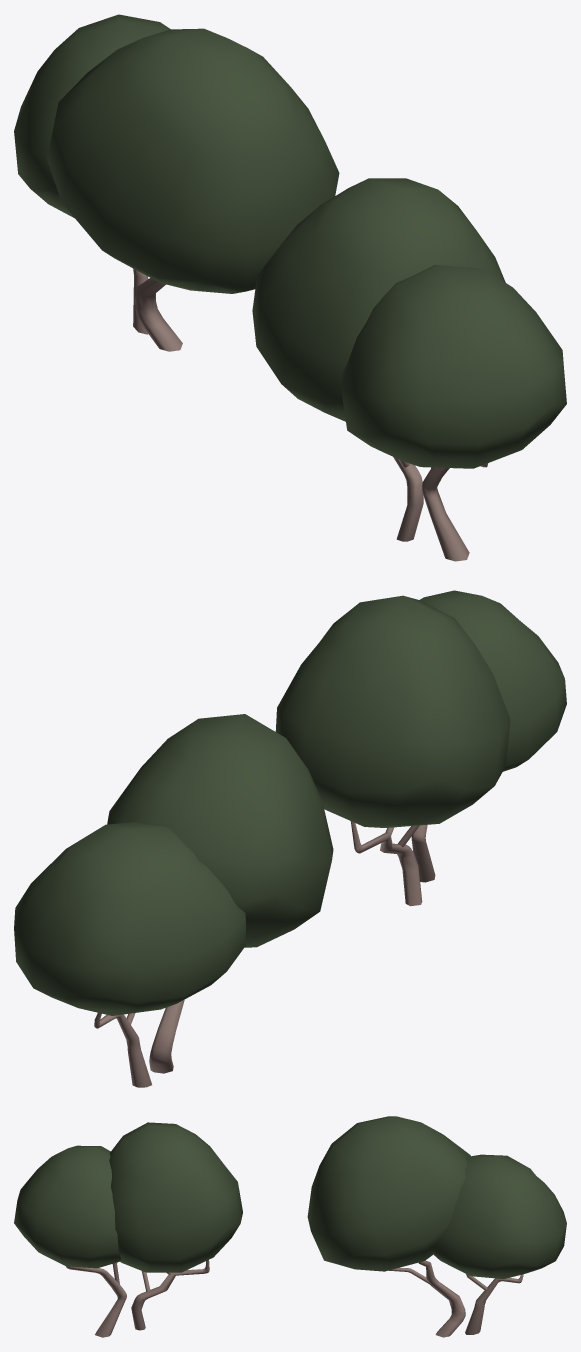
Rendered from bosjes.fbx.
The picture shows the model from 3 angles, top to bottom: view 1: azimuth 30°, elevation 25°; view 2: azimuth 150°, elevation 25°; view 3: azimuth 270°, elevation 25°; orthographic projection. The views are drawn at different scales.
Visible parts, largest first — view 1: pCylinder36, pCylinder39; view 2: pCylinder39, pCylinder36; view 3: pCylinder39, pCylinder36.
Boxes of the visible parts, left/top/right/bottom form: pCylinder36: left=252, top=178, right=566, bottom=561; pCylinder39: left=14, top=14, right=339, bottom=351; pCylinder39: left=14, top=714, right=333, bottom=1087; pCylinder36: left=275, top=590, right=566, bottom=906; pCylinder39: left=307, top=1116, right=566, bottom=1337; pCylinder36: left=14, top=1122, right=242, bottom=1337.
Bounding box in the file's own units: 1.92 × 2.76 × 6.68.
